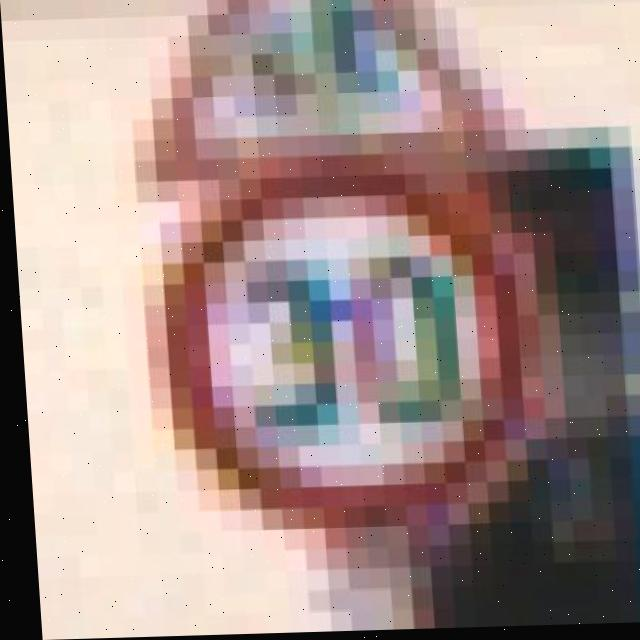Speed limit 30: (128, 148, 580, 578)
